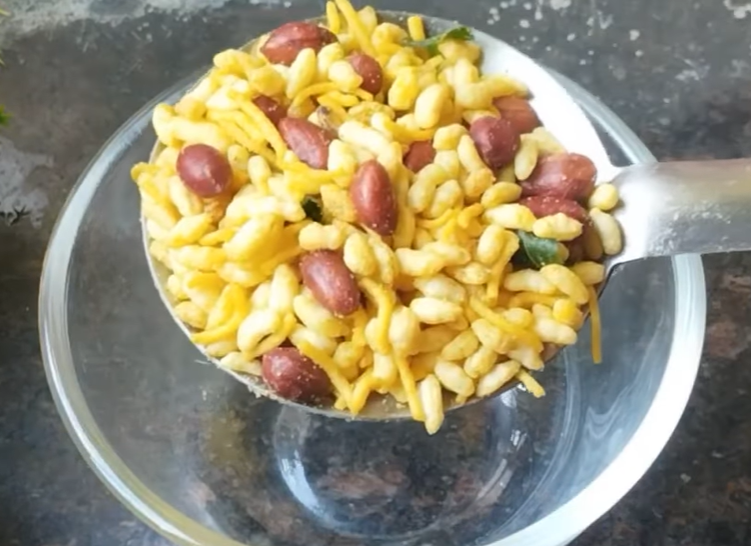chatpate: (169, 33, 571, 388)
